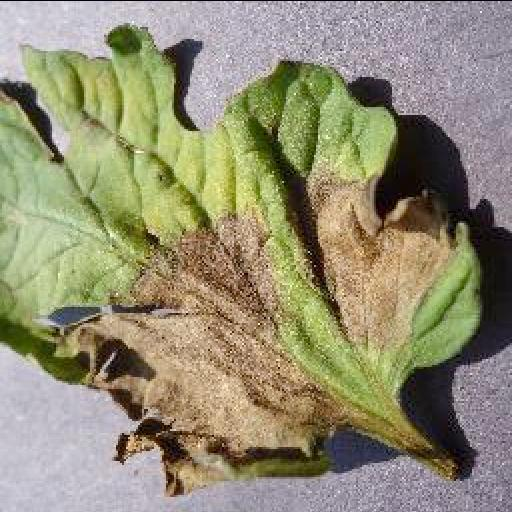disease_tomato: (0, 24, 480, 502)
